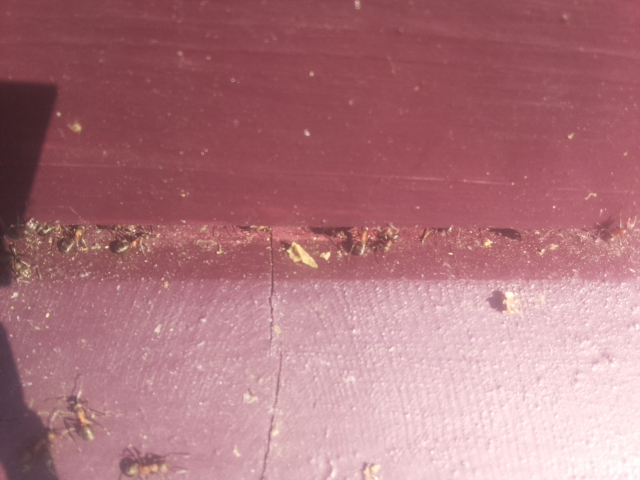ant: (99, 220, 163, 260), (111, 442, 178, 480), (13, 428, 59, 477), (60, 390, 97, 446), (6, 234, 34, 283), (56, 220, 92, 255)
